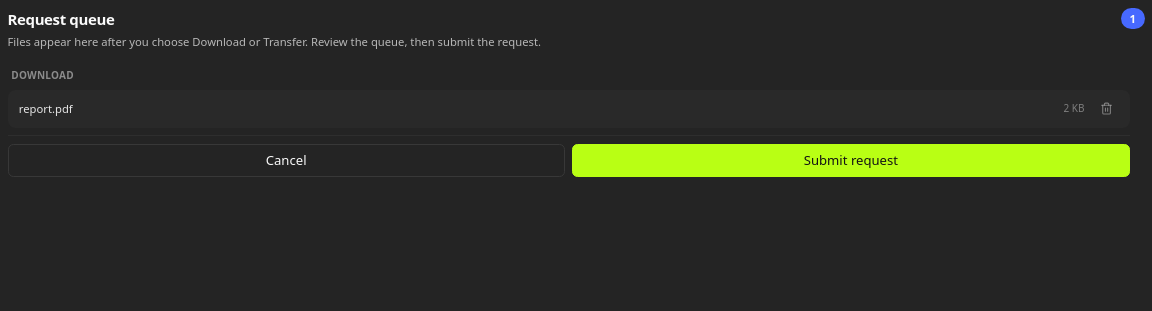
Test case: RequestQueue › cancelling the download form returns to the list without submitting
This screenshot has width=1152, height=311.
Click the button "Submit request". click: coordinates (851, 160)
box: [572, 144, 1130, 177]
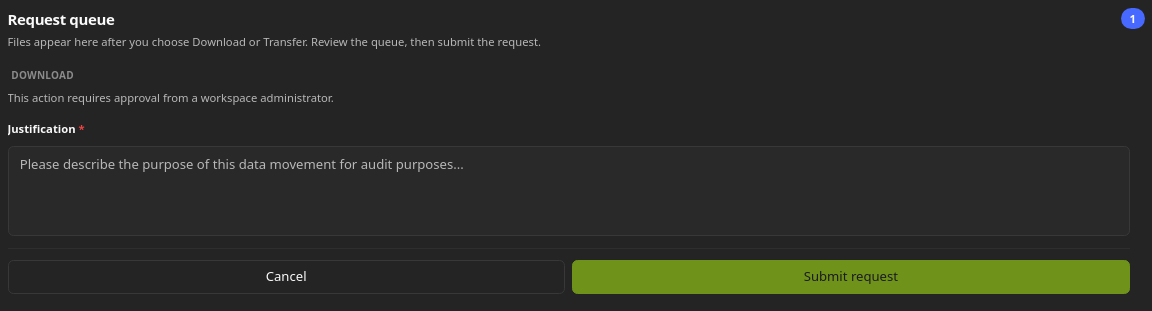
Check: the text box labelled "Justification *" is shown, box [8, 146, 1130, 236]
Click the button "Cancel". click: coordinates (286, 277)
box: [8, 260, 565, 294]
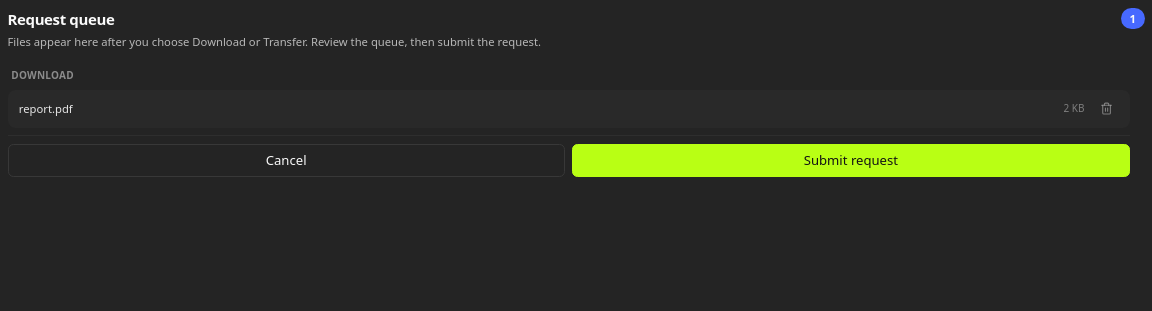
Check: the label labelled "Justification" is gone
